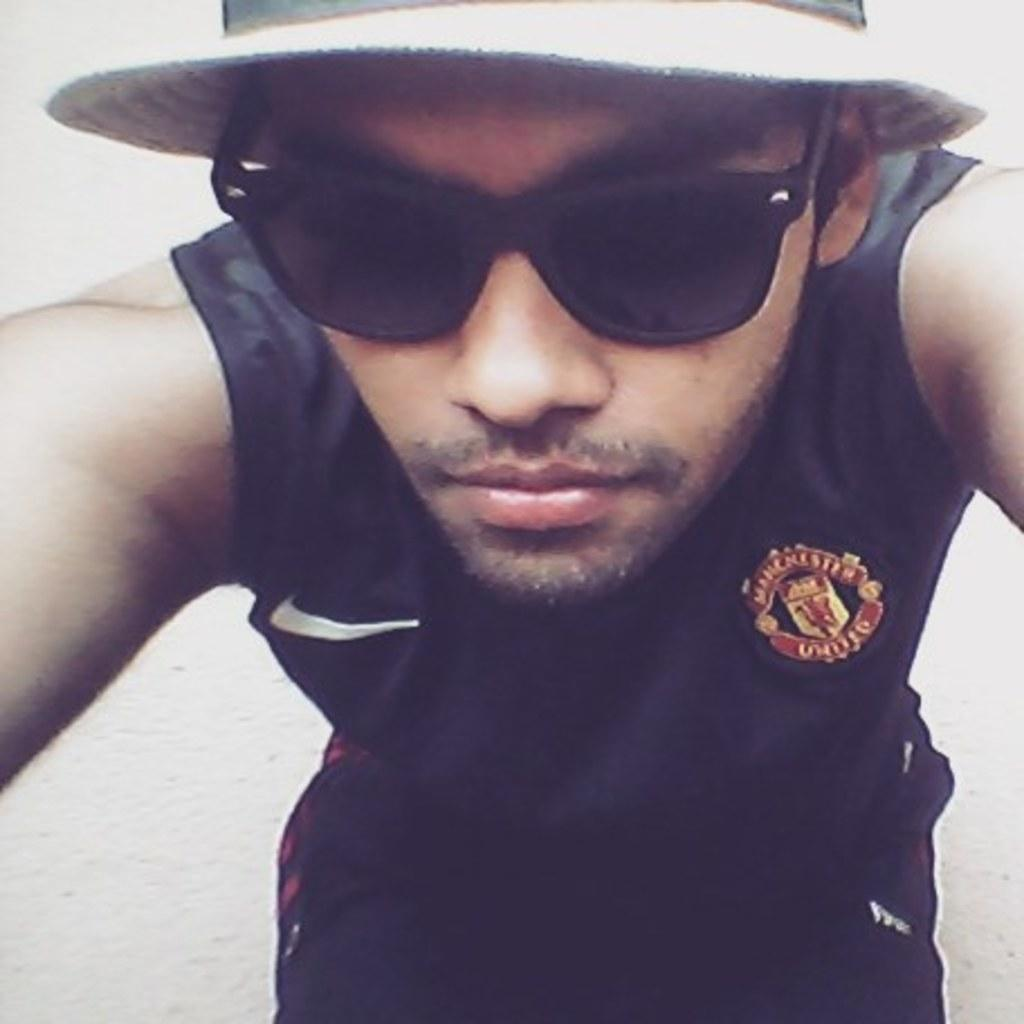Hat: (44, 0, 986, 157)
